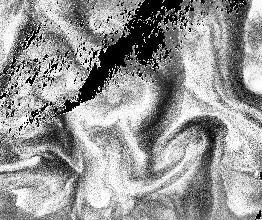CE: (155, 112, 229, 179)
